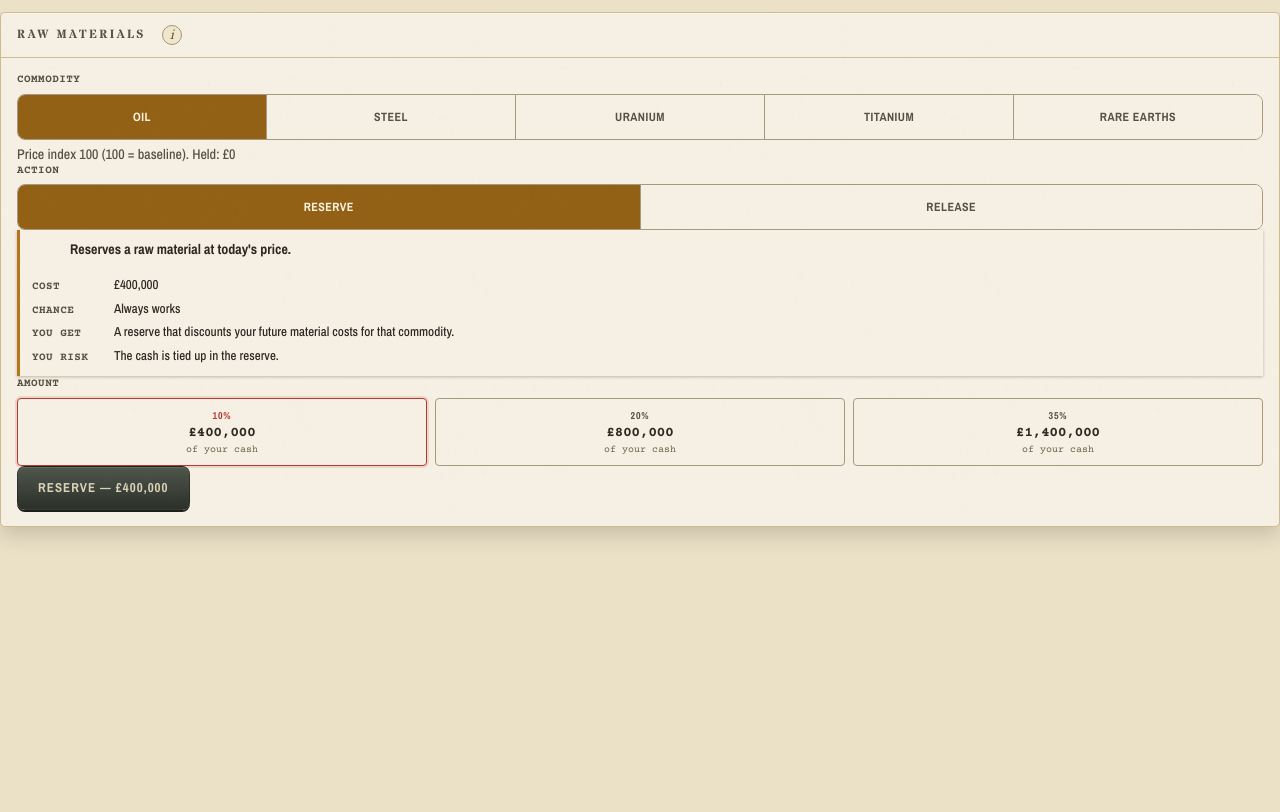
it: THE COMPANY — kortet i varje formulär › råvarupanelen har ett kort som byter mellan RESERVE och RELEASE
Expected: the element with test id "action-card-BUY_FORWARD" is shown, left=17, top=230, right=1263, bottom=376
Click the radio button "RELEASE".
click(951, 207)  # box left=640, top=185, right=1262, bottom=229
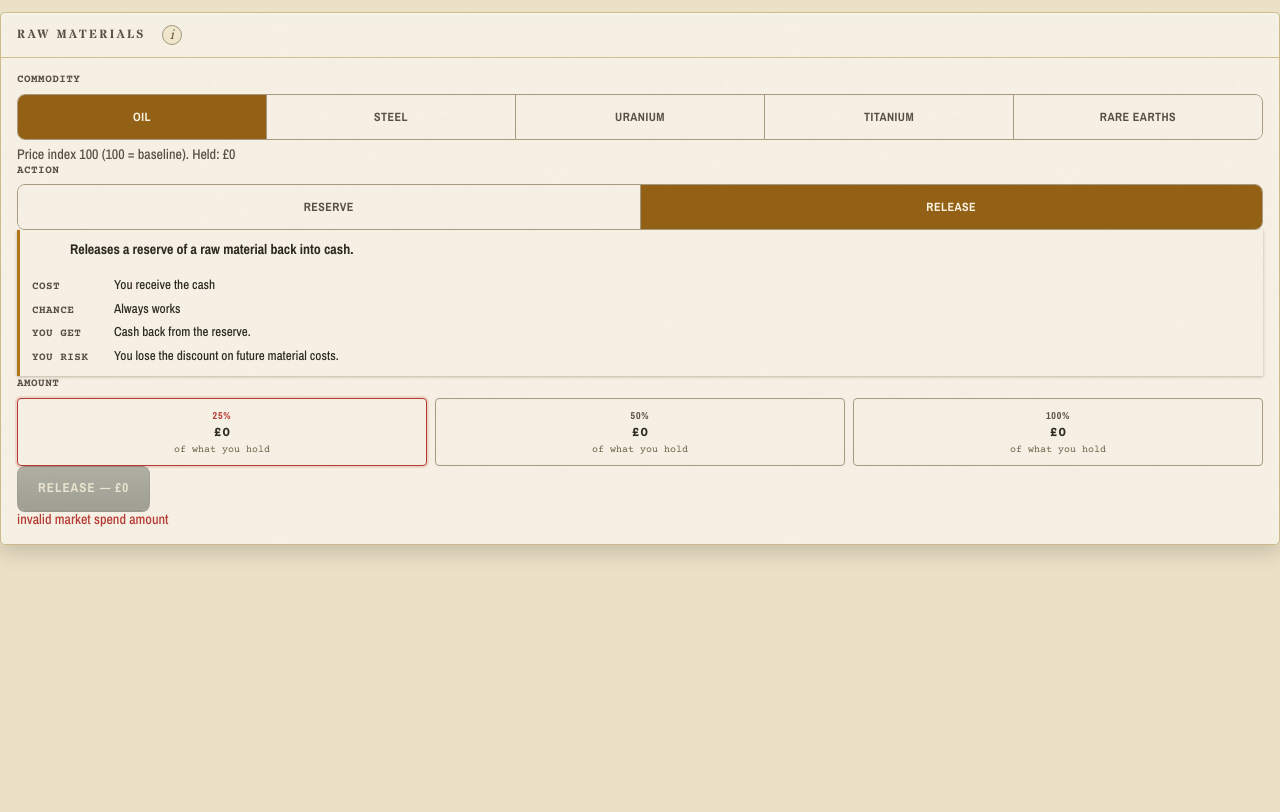
Now the element with test id "action-card-RELEASE" is shown, box left=17, top=230, right=1263, bottom=376
